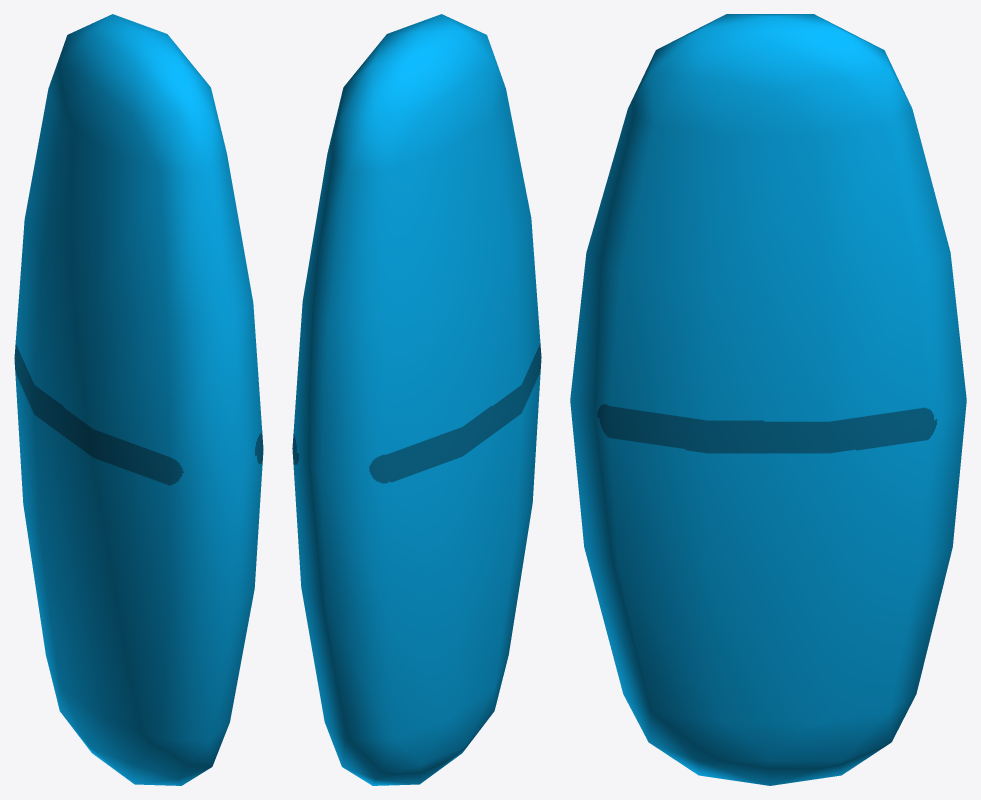
File: Flat_Pill.fbx
The picture shows the model from 3 angles, left to right: view 1: azimuth 30°, elevation 25°; view 2: azimuth 150°, elevation 25°; view 3: azimuth 270°, elevation 25°; orthographic projection. The views are drawn at different scales.
Visible parts, largest first — view 1: Icosphere; view 2: Icosphere; view 3: Icosphere.
Boxes of the visible parts, x1,y1,x2,y2 form: Icosphere: (14, 14, 263, 785); Icosphere: (292, 14, 541, 785); Icosphere: (570, 14, 966, 785).
Bounding box in the file's own units: 88.44 × 411 × 194.
